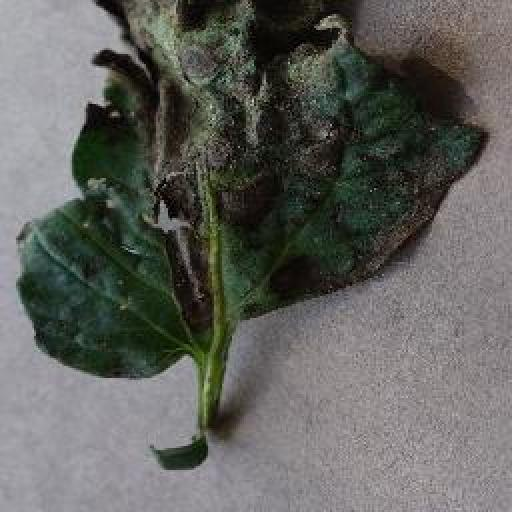Early Blight: (15, 3, 488, 381)
